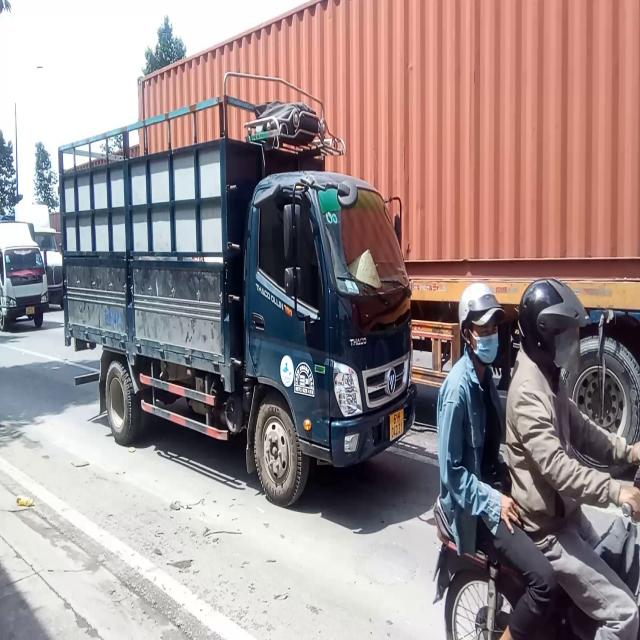bien_vang: (388, 405, 406, 442)
